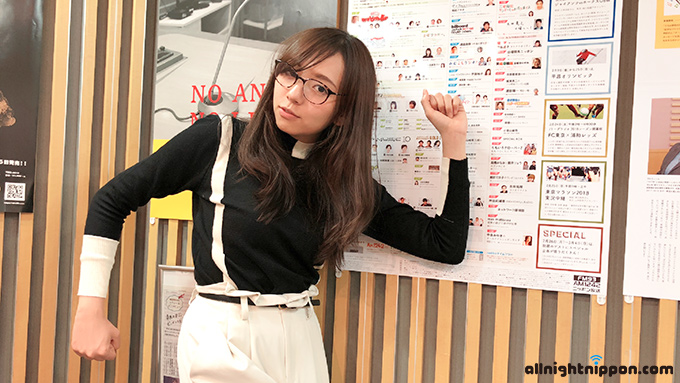face: (274, 49, 347, 141)
hand: (419, 88, 469, 158), (70, 299, 120, 361)
